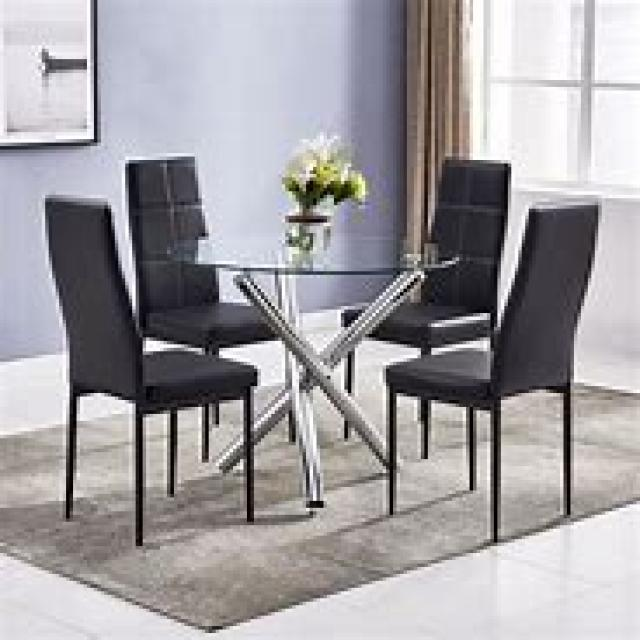chair: (42, 191, 257, 546), (383, 195, 598, 542), (122, 153, 299, 473), (338, 153, 512, 459)
table: (167, 233, 459, 508)
